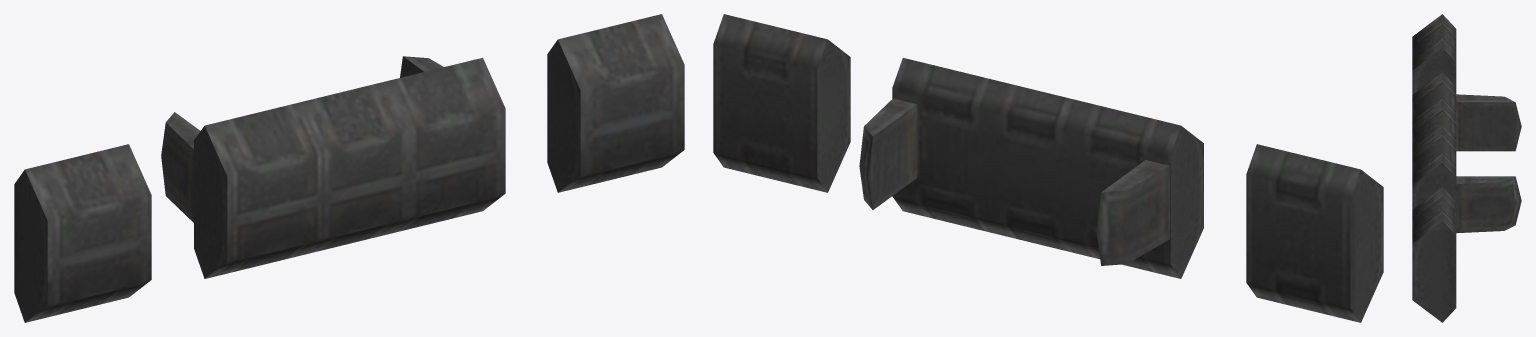
The picture shows the model from 3 angles, left to right: view 1: azimuth 30°, elevation 25°; view 2: azimuth 150°, elevation 25°; view 3: azimuth 270°, elevation 25°; orthographic projection. The views are drawn at different scales.
Parts seen in each view (by area): view 1: set_0_group_0; view 2: set_0_group_0; view 3: set_0_group_0.
Boxes of the visible parts, x1,y1,x2,y2 form: set_0_group_0: [14, 14, 684, 322]; set_0_group_0: [713, 14, 1383, 322]; set_0_group_0: [1412, 14, 1521, 322].
Bounding box in the file's own units: 0.9549 × 0.2199 × 0.2136.
Materials: 1 (1 with a texture image).
